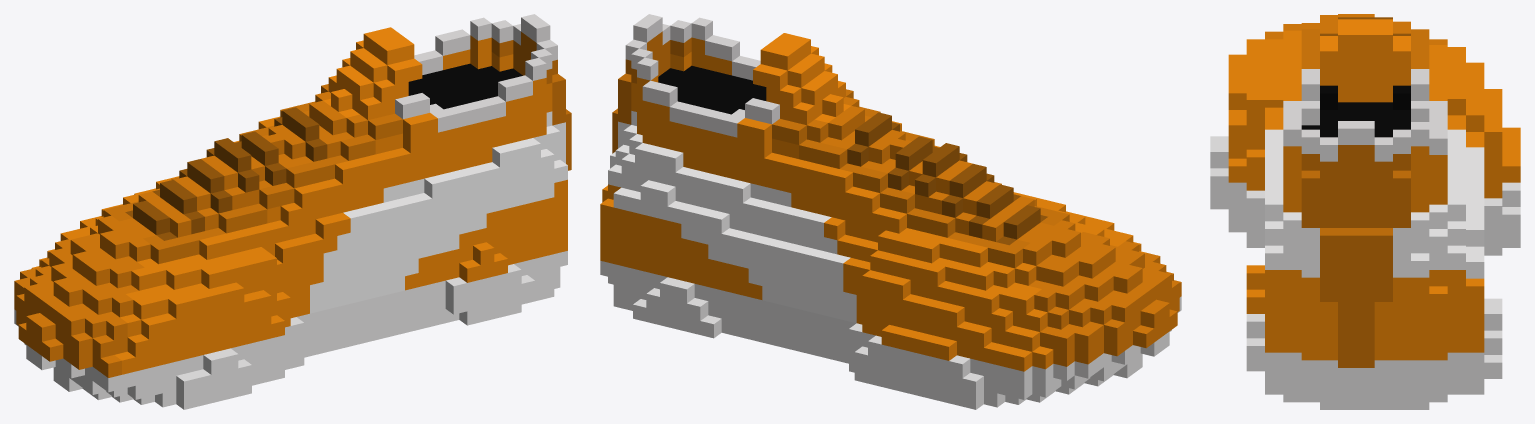
File: Safron.fbx
3 views of the same model, side by side, from view 1: azimuth 30°, elevation 25°; view 2: azimuth 150°, elevation 25°; view 3: azimuth 270°, elevation 25° (orthographic). The views are drawn at different scales.
Parts seen in each view (by area): view 1: Untitled; view 2: Untitled; view 3: Untitled.
Part boxes in pixels (x1,y1,x2,y2): Untitled: (14, 14, 571, 409); Untitled: (600, 14, 1181, 409); Untitled: (1210, 14, 1520, 409).
Size of the model in its own units: 390 by 180 by 170.
